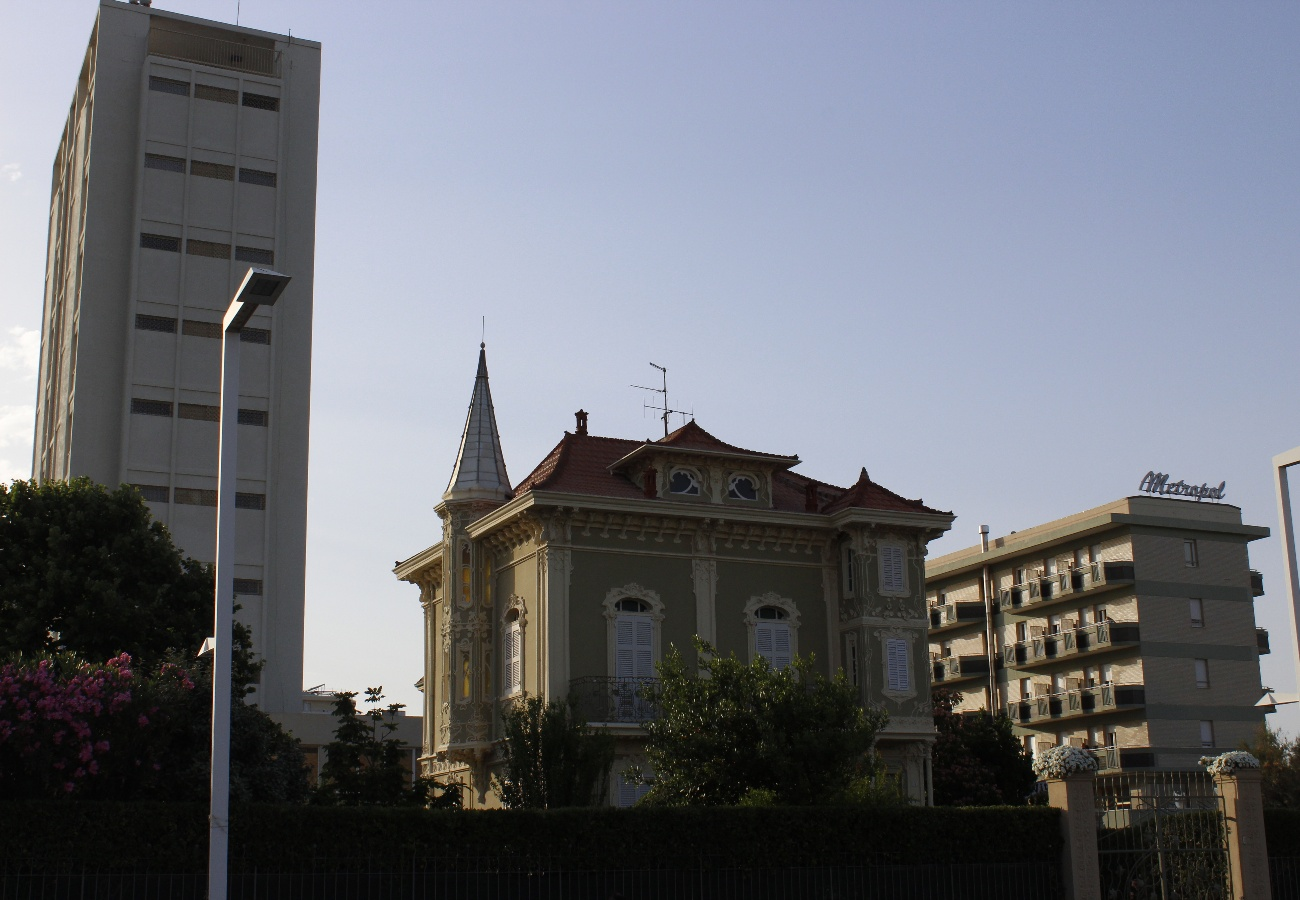Villino Ruggeri: (394, 341, 958, 871)
